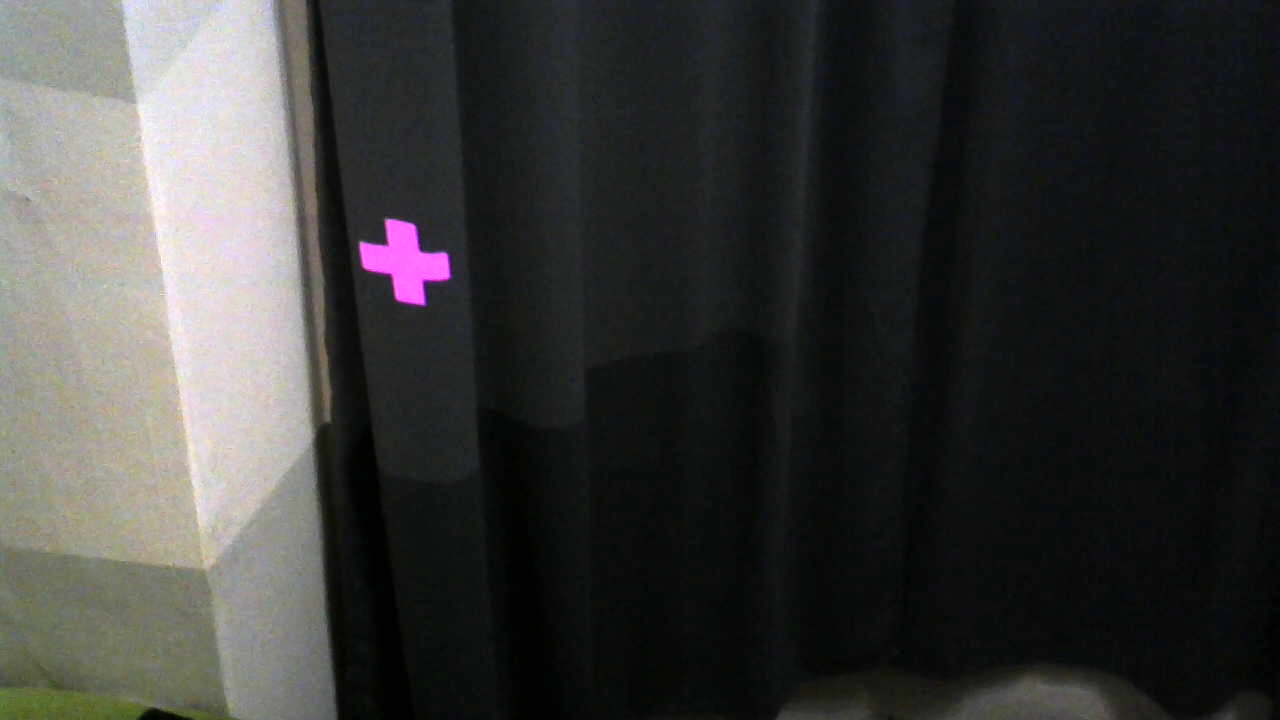calibration_symbol: (357, 214, 451, 308)
